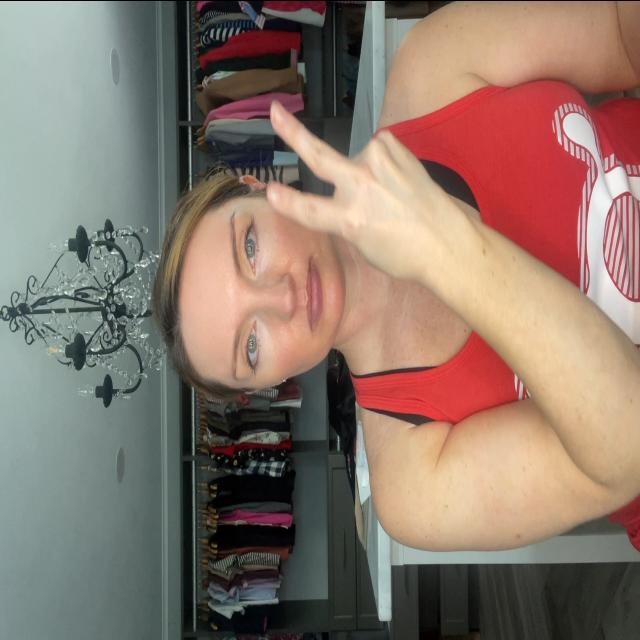Scissors: (264, 92, 444, 270)
